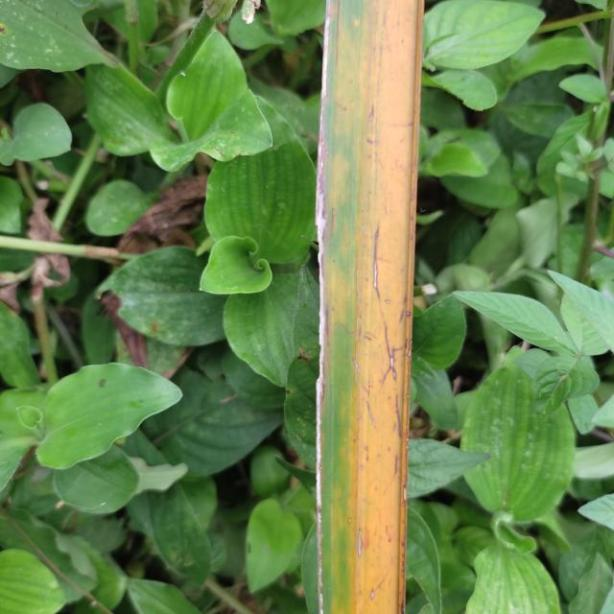Megnesium: (310, 0, 426, 614)
